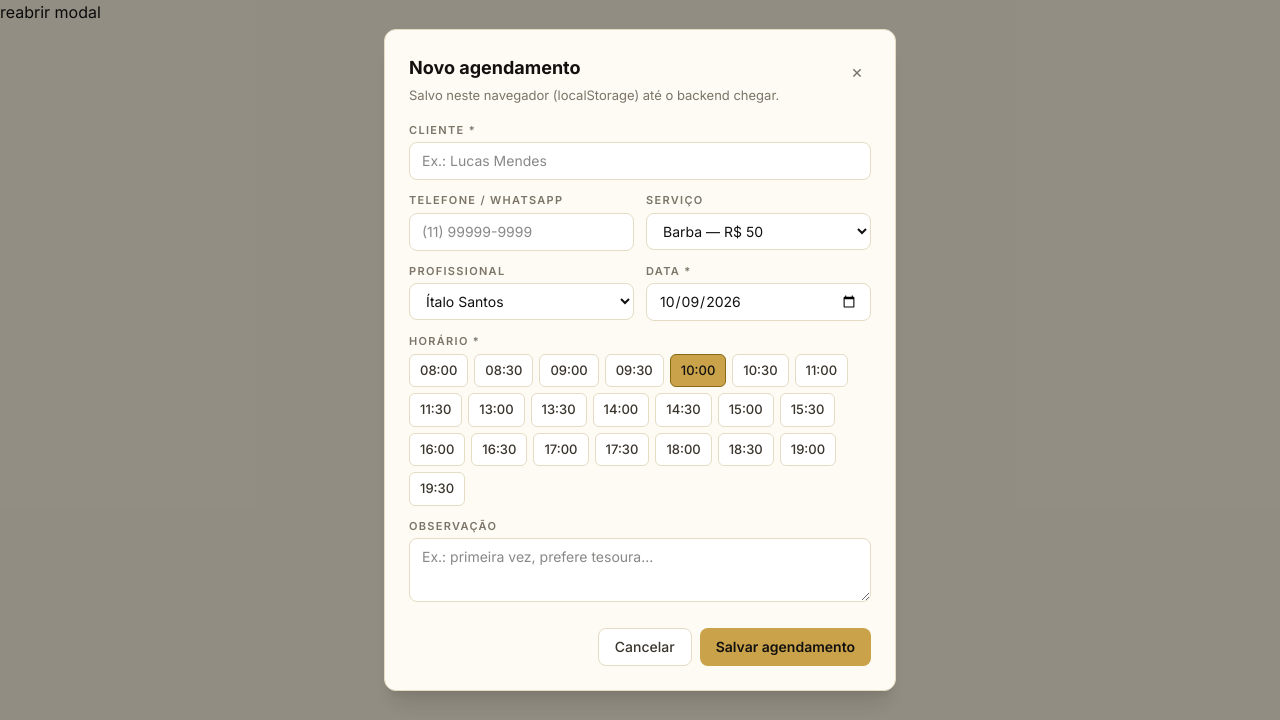
Test: NovoAgendamentoModal — cliente duplicado no horário › bloqueia mesmo cliente no mesmo horário mesmo com profissional diferente
This screenshot has width=1280, height=720.
In the field labelled "Cliente *": (640, 161) [409,142,871,180], type "lucas mendes"
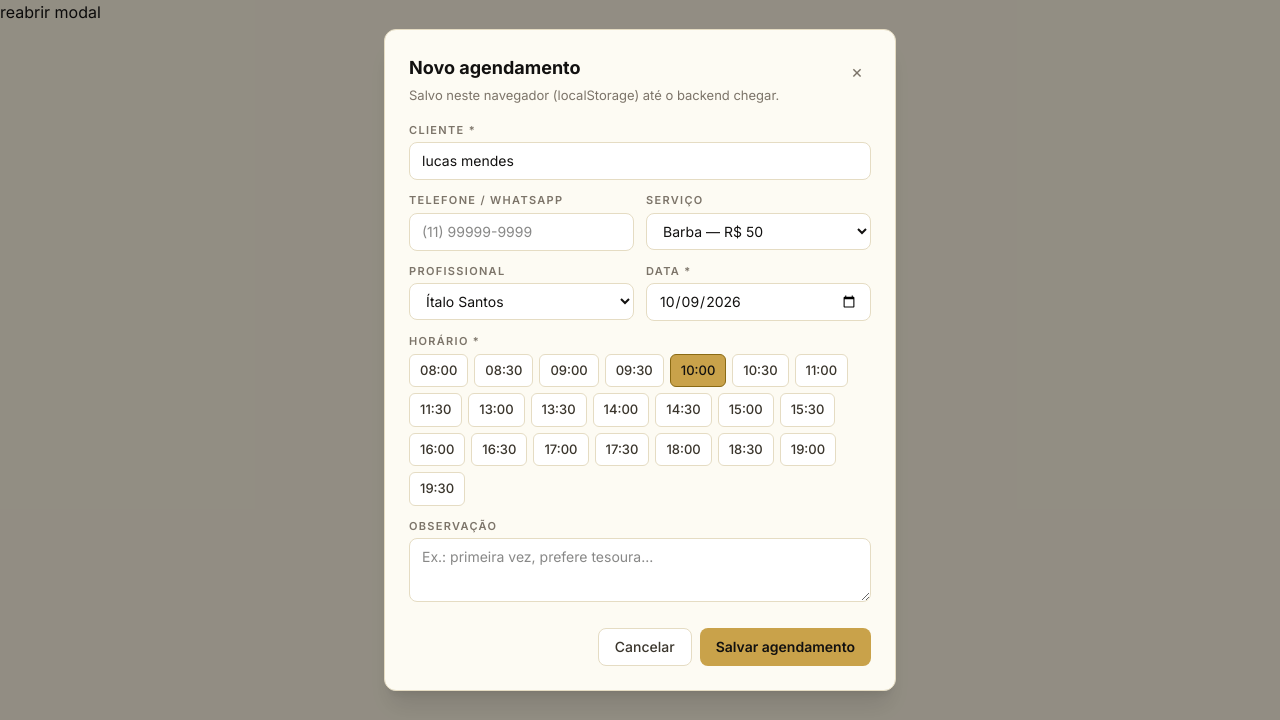
Click the button "Salvar agendamento": click(785, 647) [700,628,871,666]
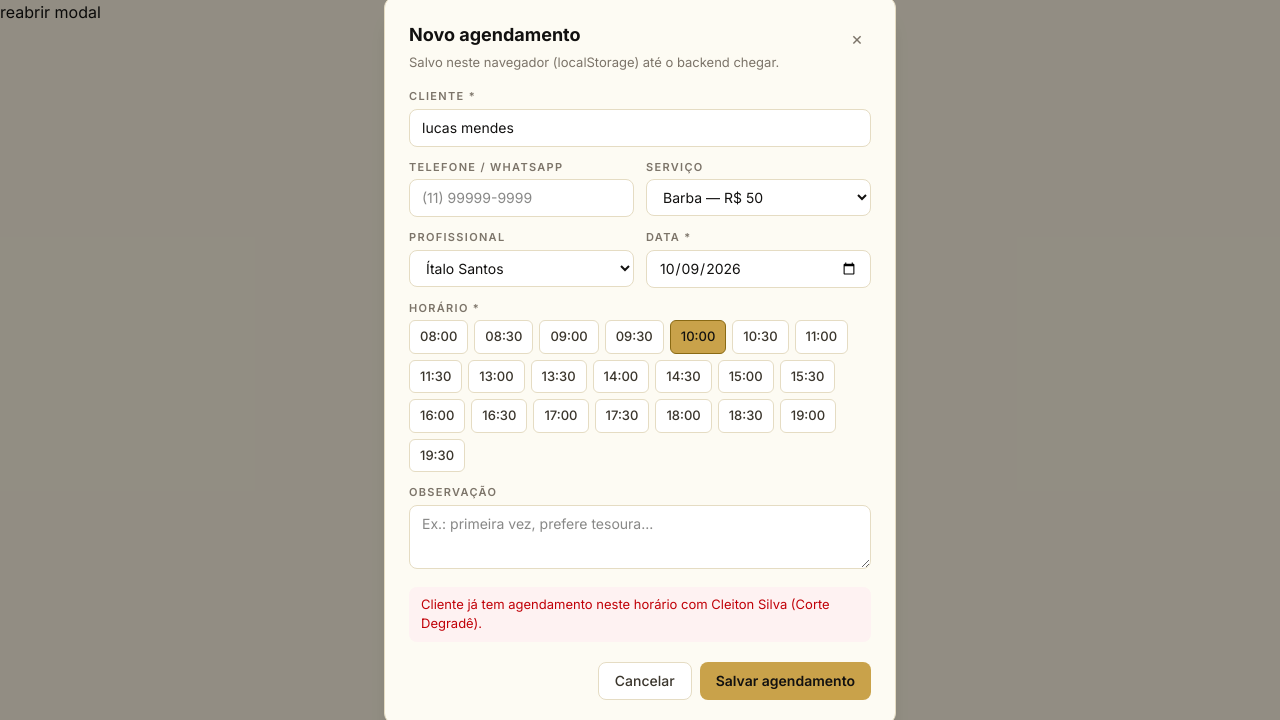
Expected: the text "Cliente já tem agendamento neste horário" is shown, [421,596,830,631]
